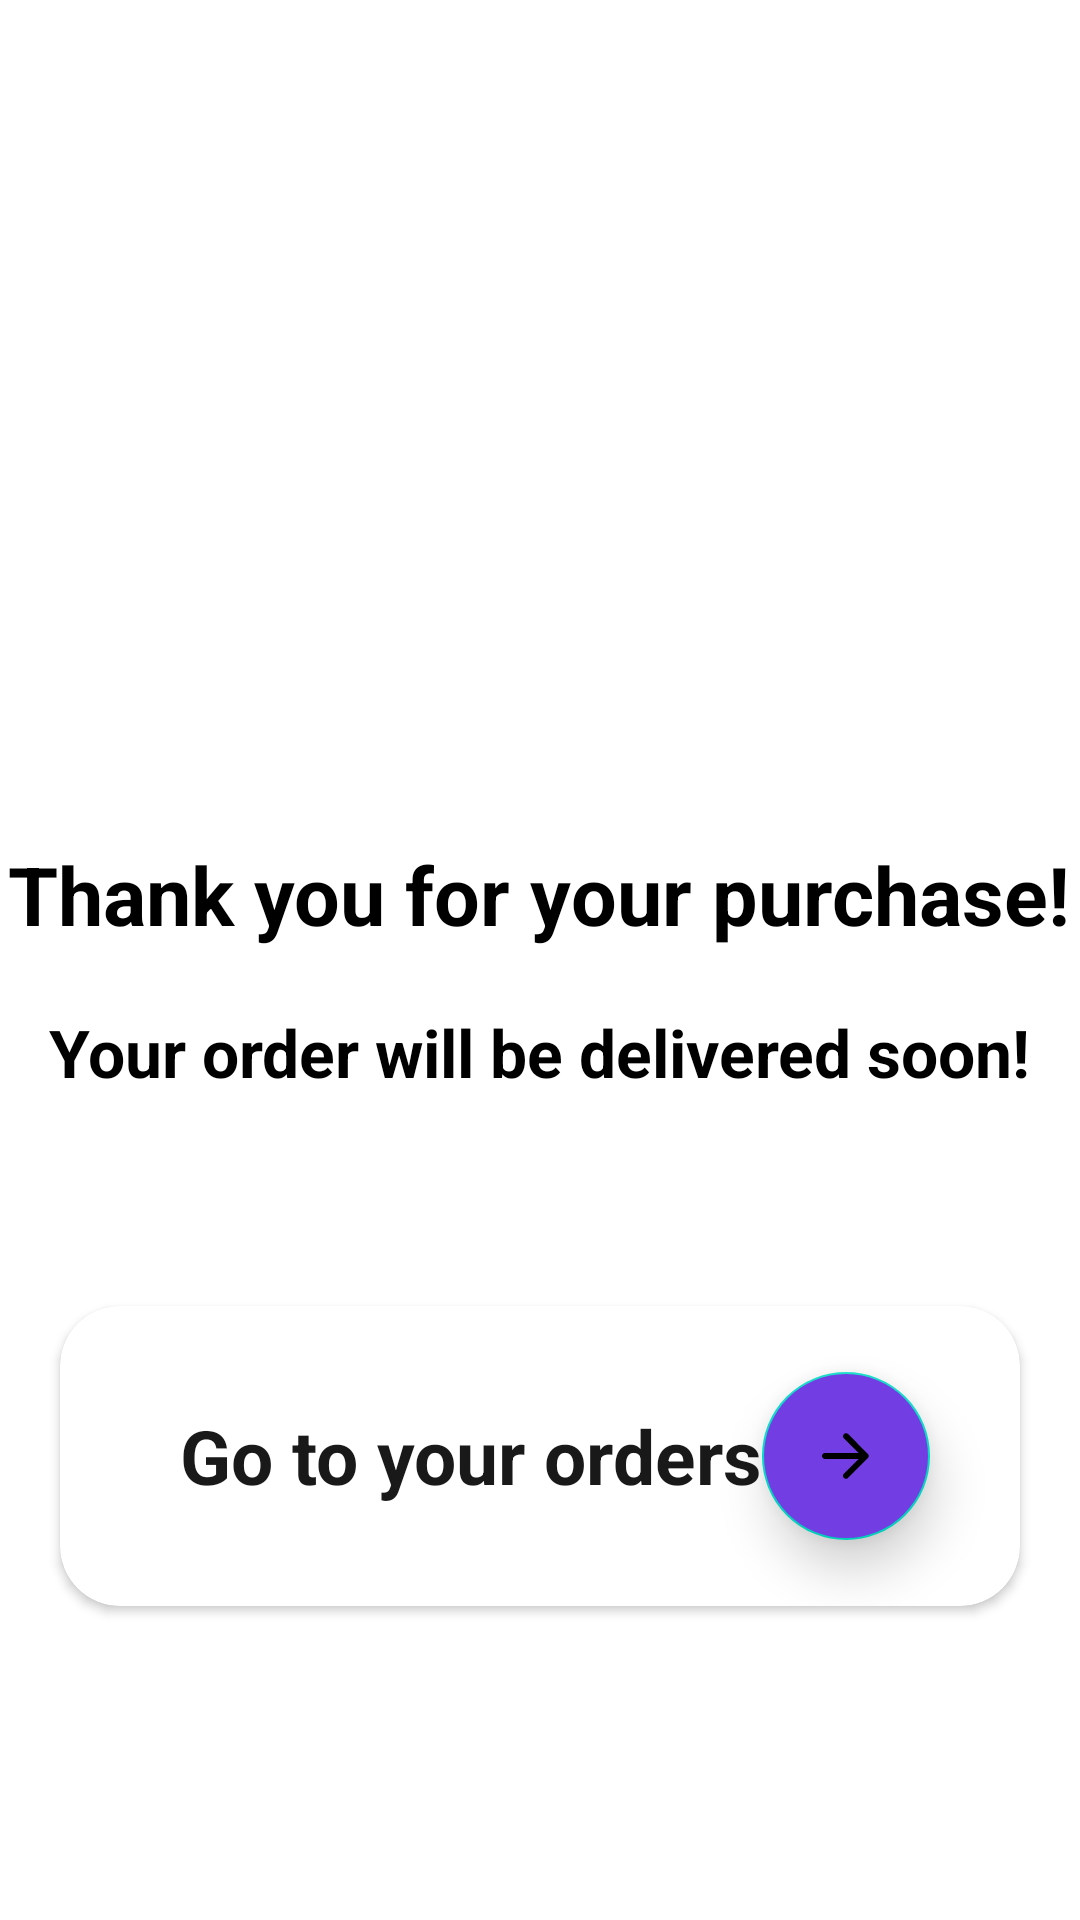

Named icons in this screenshot (1080px x 1920px) and their centers, [x,y]:
arrow forward: [846,1456]
